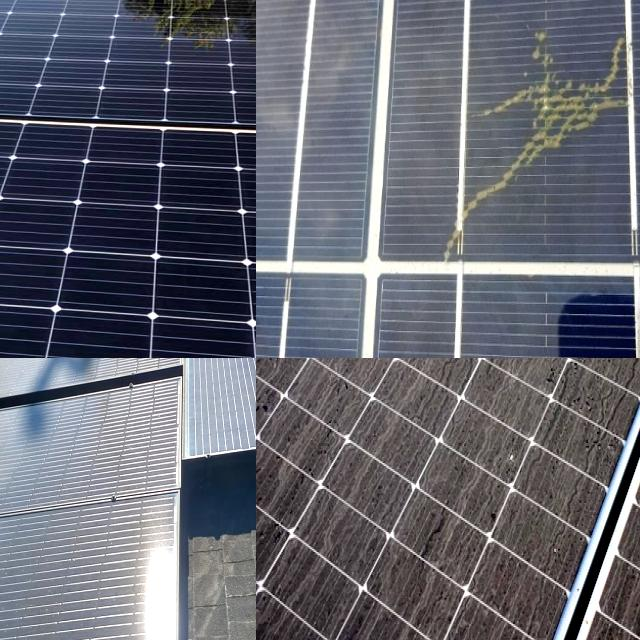crack: (0, 90, 256, 358), (0, 0, 256, 150), (0, 0, 256, 59)
dust: (256, 358, 429, 529), (470, 358, 582, 493), (424, 540, 573, 640), (309, 358, 470, 450), (256, 540, 404, 640), (483, 358, 639, 446), (0, 532, 67, 640), (0, 372, 51, 510), (0, 423, 47, 565), (256, 358, 302, 466), (41, 358, 121, 418)
shadow: (416, 0, 640, 275)
